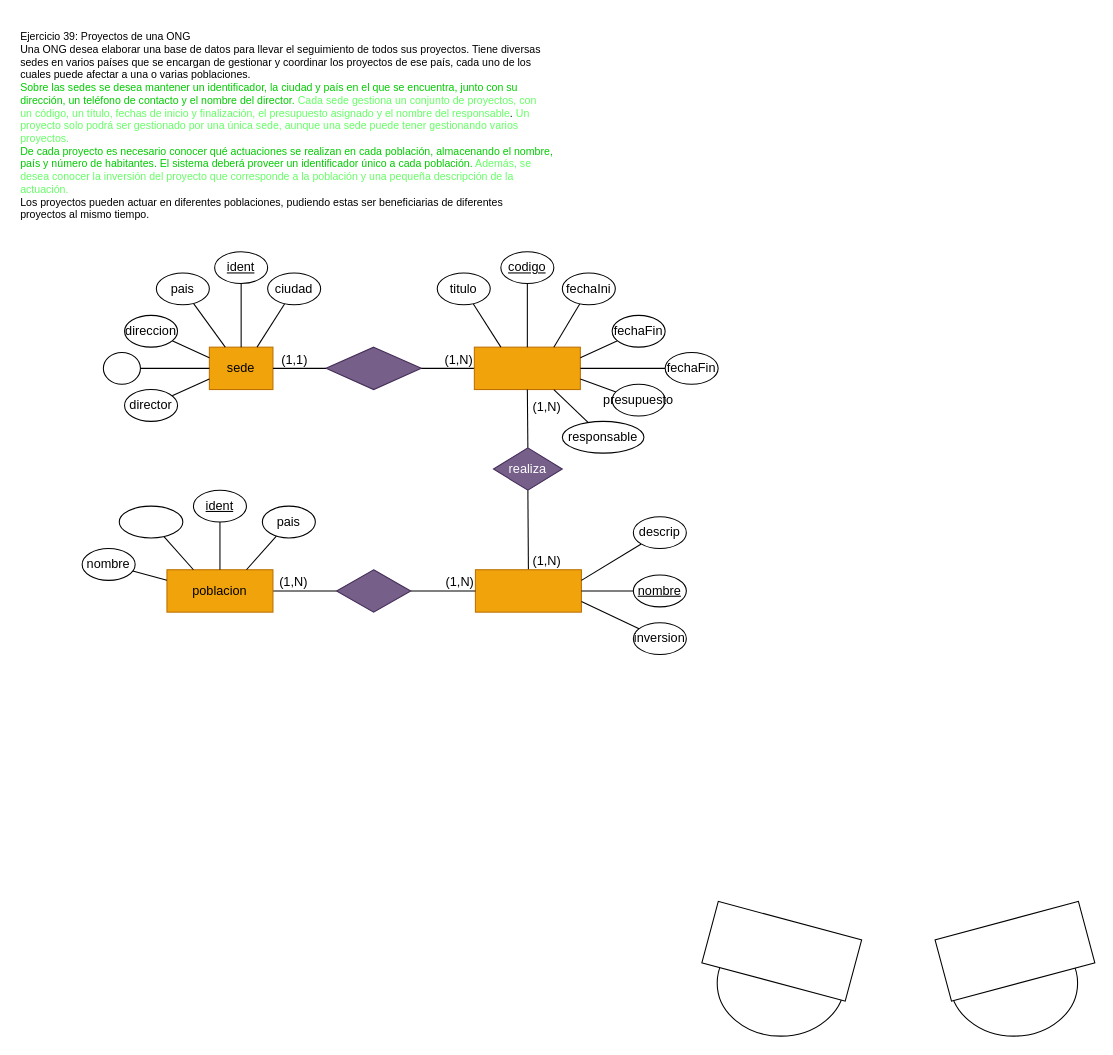
The diagram is 1113 pixels wide and 1055 high, and some of its shapes have lost their labels. The centre of each missing label's shape, as x and y in pixels:
actuacion: point (527, 590)
en: point (373, 590)
gestiona: point (373, 368)
habitantes: point (150, 521)
proyecto: point (526, 368)
telf: point (121, 367)
